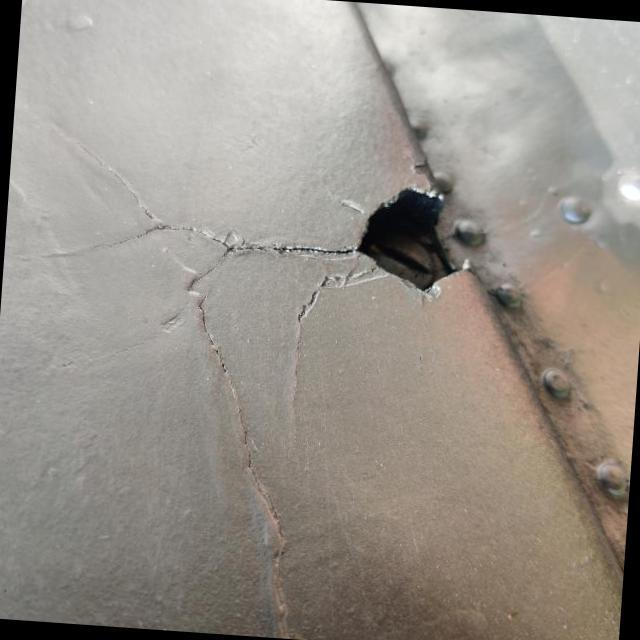Rupture: (28, 128, 487, 321)
